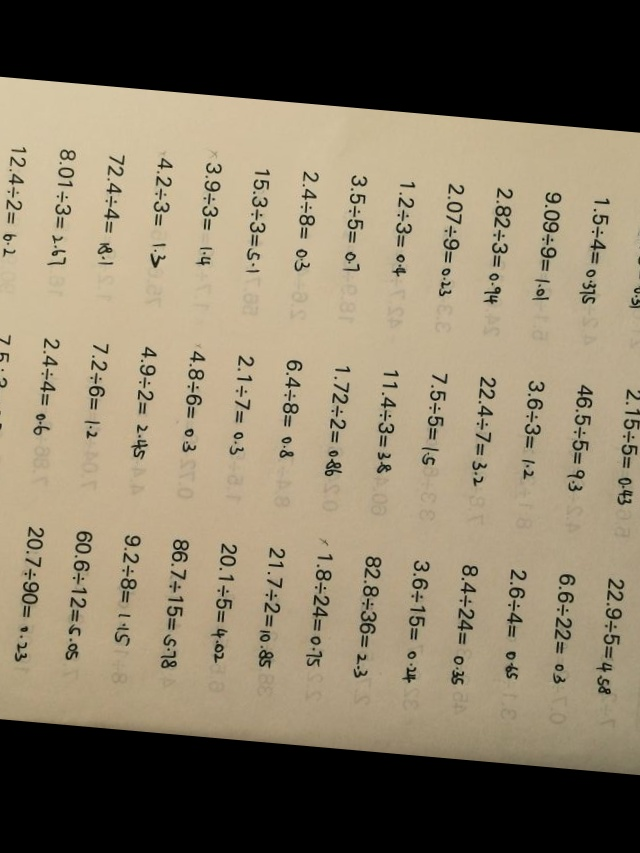equation: (16, 524, 44, 666), (307, 535, 336, 670), (65, 527, 93, 664), (596, 574, 626, 699), (162, 535, 189, 672), (355, 552, 383, 682), (451, 561, 479, 689), (210, 540, 238, 667), (258, 545, 286, 672), (403, 556, 430, 687), (49, 145, 77, 270), (486, 185, 513, 308), (114, 531, 142, 649), (534, 188, 562, 305), (131, 343, 158, 463), (567, 381, 595, 496), (582, 194, 610, 309), (439, 182, 466, 301), (0, 143, 27, 261), (98, 152, 125, 270), (325, 362, 352, 480), (549, 570, 576, 688), (147, 156, 174, 273), (196, 159, 224, 270), (471, 374, 497, 491), (501, 567, 527, 684), (616, 387, 640, 510), (244, 166, 270, 278), (373, 367, 399, 479), (293, 169, 320, 276), (34, 335, 61, 440), (180, 348, 206, 457), (84, 339, 111, 443), (229, 353, 255, 459), (277, 357, 303, 463), (519, 378, 545, 484), (422, 368, 449, 469), (390, 178, 416, 281), (342, 173, 367, 276), (626, 193, 640, 316), (0, 332, 11, 435)
